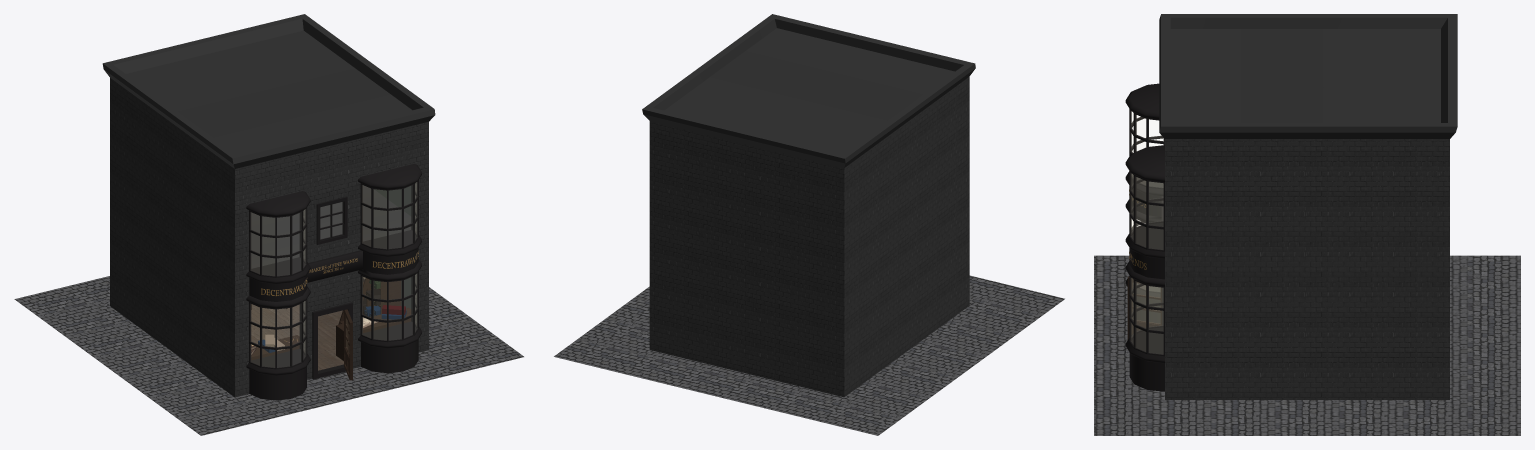
File: store.glb
3 views of the same model, side by side, from view 1: azimuth 30°, elevation 25°; view 2: azimuth 150°, elevation 25°; view 3: azimuth 270°, elevation 25° (orthographic). The views are drawn at different scales.
Visible parts, largest first — view 1: Store, Ground, Shelves; view 2: Store, Ground; view 3: Store, Ground.
Boxes of the visible parts, x1=… form: Store: x1=102, y1=14, x2=435, y2=400; Ground: x1=14, y1=276, x2=523, y2=435; Shelves: x1=251, y1=277, x2=411, y2=360; Store: x1=642, y1=14, x2=975, y2=397; Ground: x1=554, y1=275, x2=1064, y2=435; Store: x1=1125, y1=14, x2=1457, y2=399; Ground: x1=1094, y1=255, x2=1520, y2=435.
Size of what is drawn, in the model's own units: 16 by 11.42 by 16.
12 materials, 12 textured.
